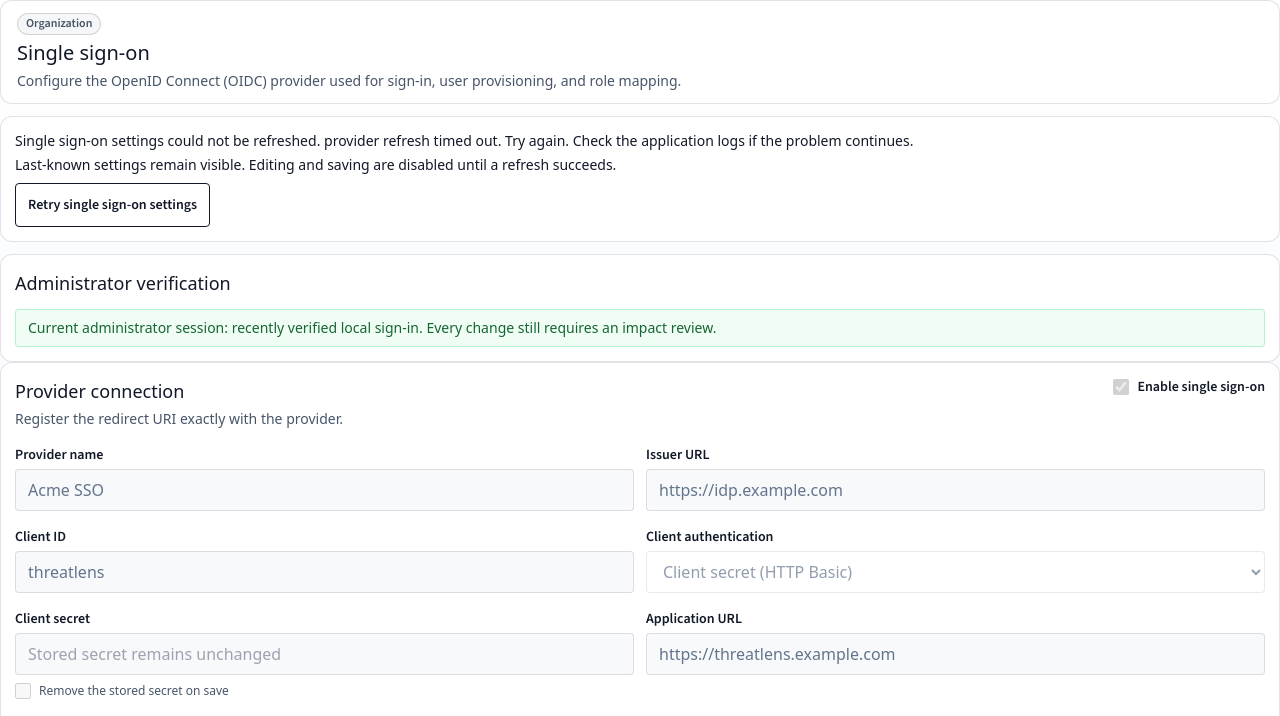
Test: IdentitySettingsPage › labels cached provider settings as stale and blocks editing until refresh succeeds
Expected: the field with id "oidc-name" holds "Acme SSO", [15,469,634,511]
Click the button "Retry single sign-on settings".
click(113, 205)  # box [15,183,210,227]
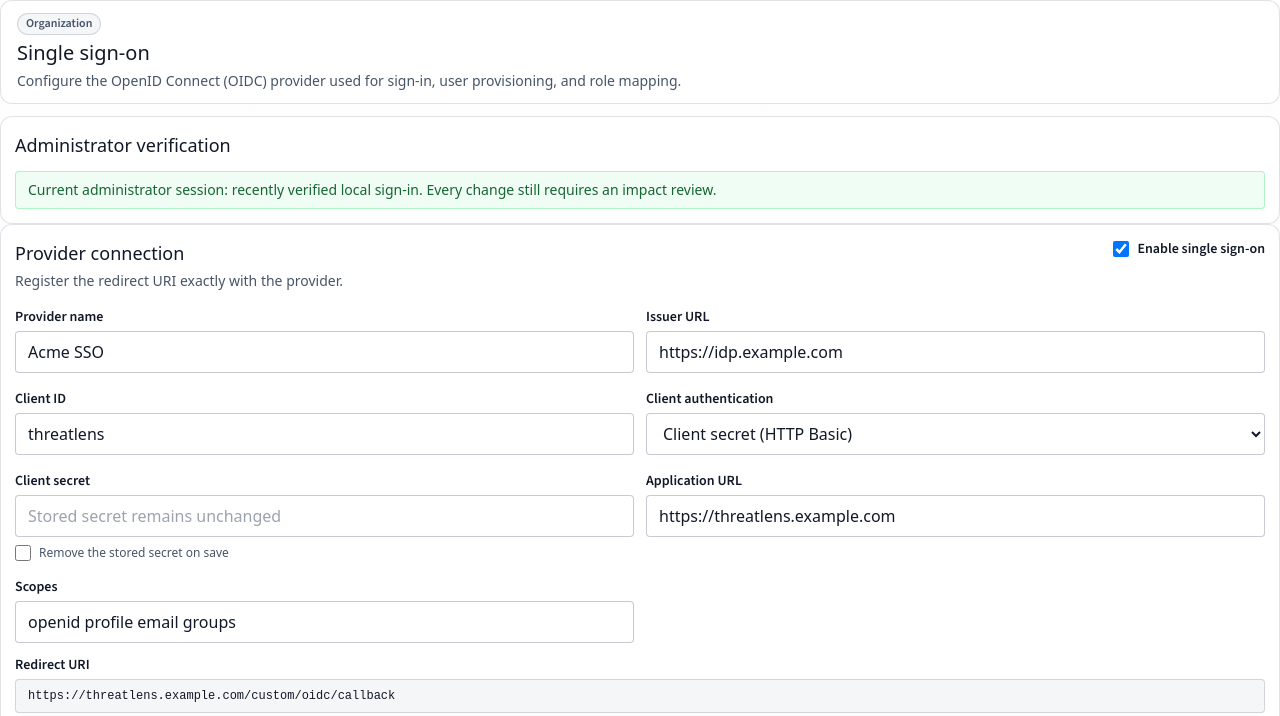
Expected: the text "Last-known settings remain visible" is gone
